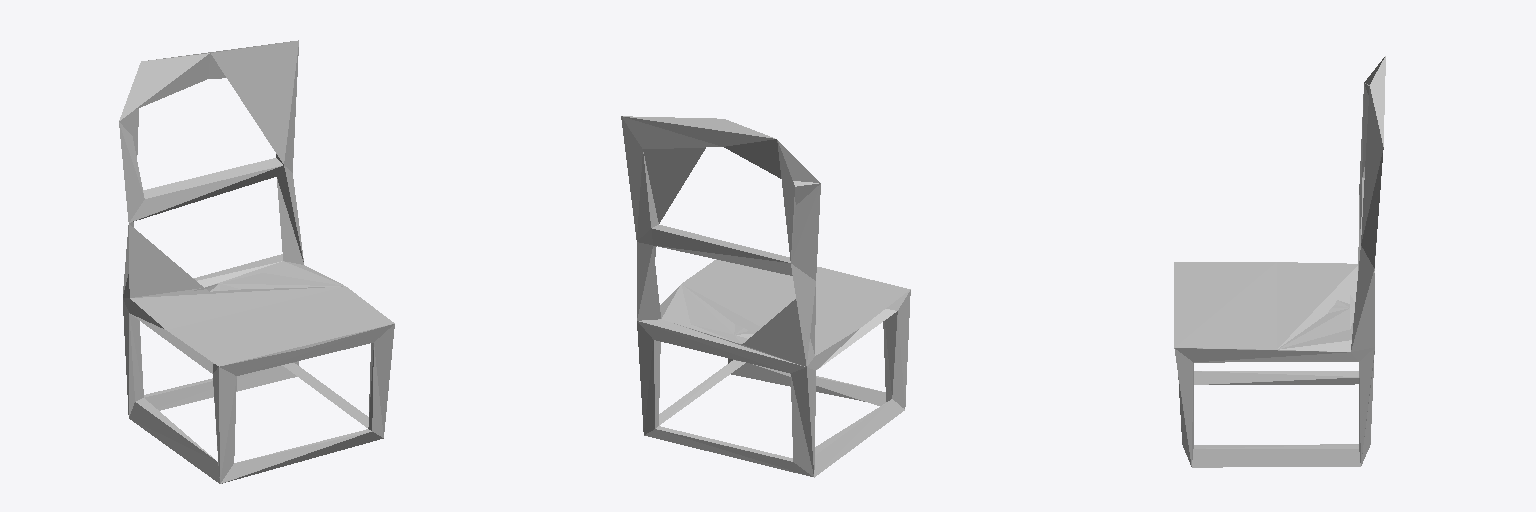
The model's file is Chair_LOD2.obj.
The picture shows the model from 3 angles: view 1: azimuth 30°, elevation 25°; view 2: azimuth 150°, elevation 25°; view 3: azimuth 270°, elevation 25°; orthographic projection.
Visible parts, largest first — view 1: Chair; view 2: Chair; view 3: Chair.
Part boxes in pixels (bbox=[...]): Chair: bbox=[119, 40, 394, 483]; Chair: bbox=[621, 116, 910, 477]; Chair: bbox=[1174, 56, 1385, 467].
Bounding box in the file's own units: 0.5586 × 0.9588 × 0.5393.